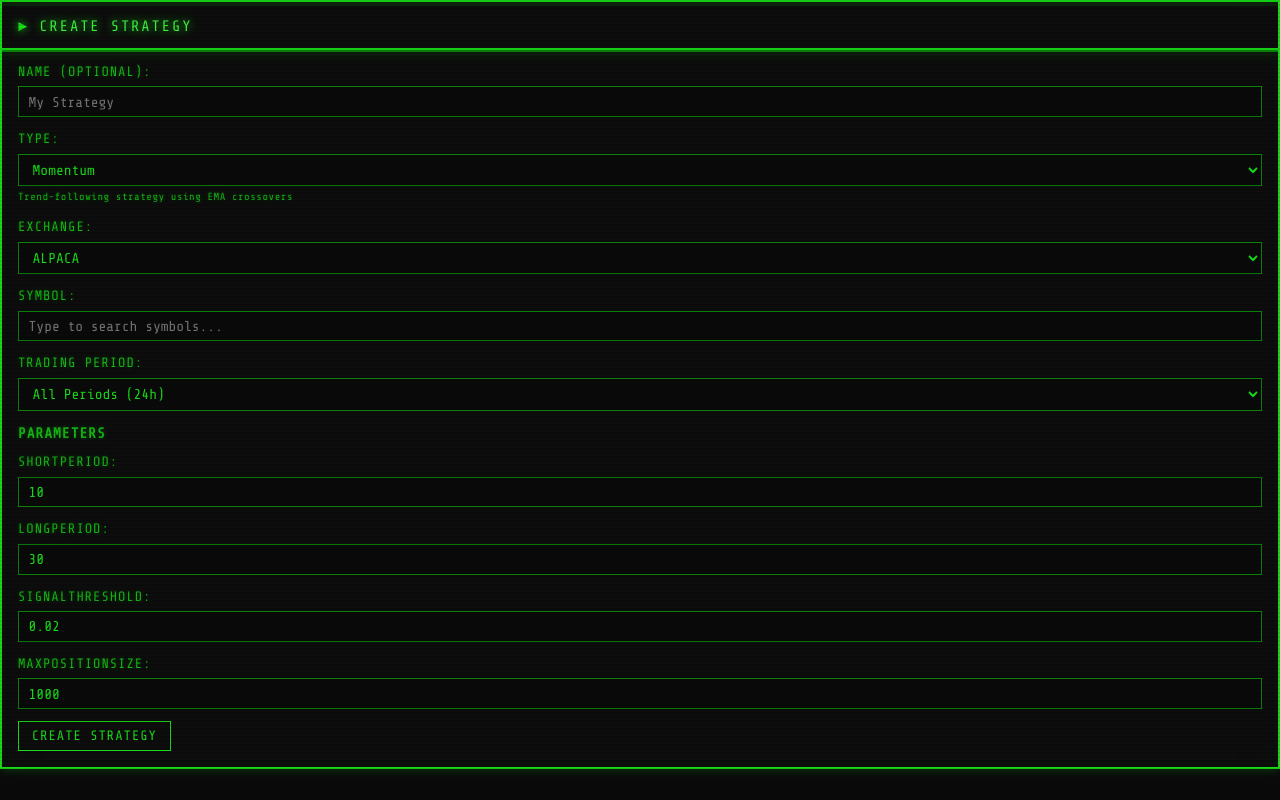
Test case: StrategyForm › loads different symbols when exchange changes
Change to BINANCE using the exchange dropdown
Select "BINANCE" in the dropdown showing "ALPACA" below "Exchange:": (640, 258) [18,242,1262,274]
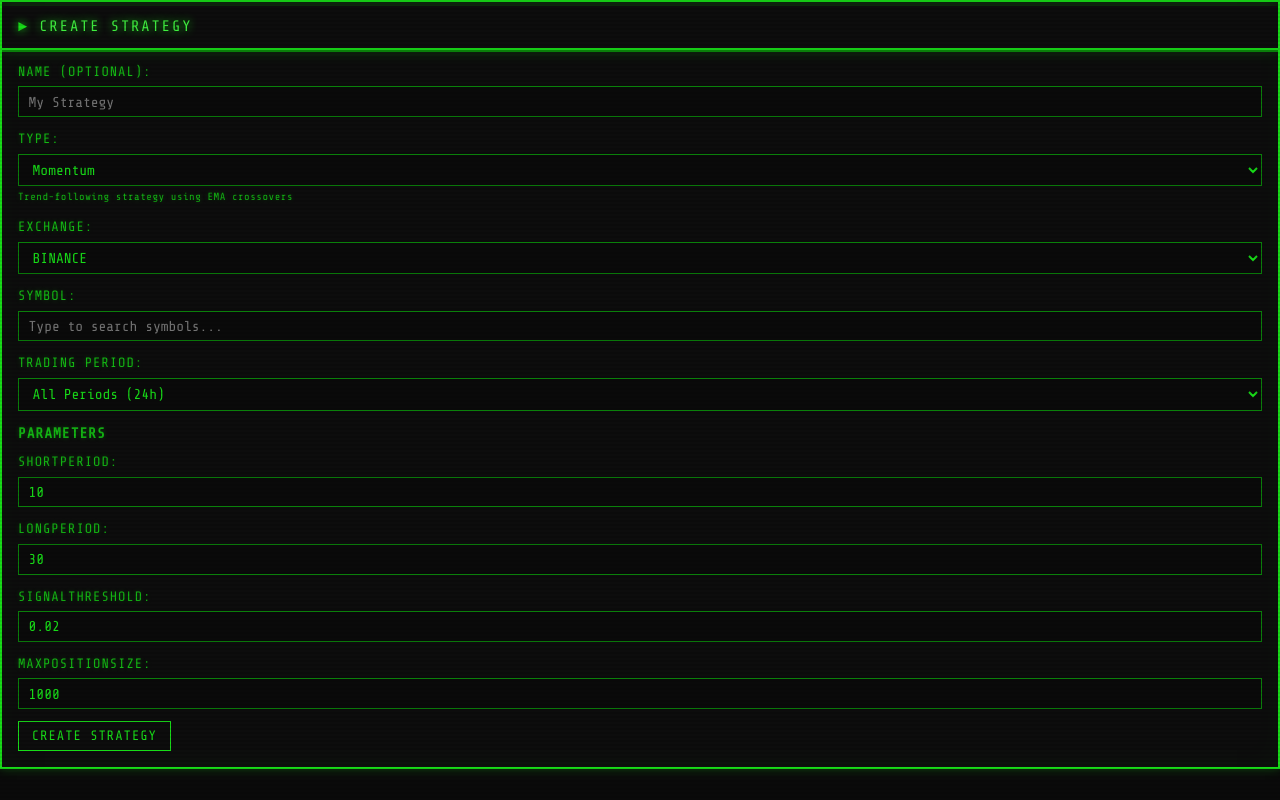
Click on symbol input to show dropdown
Click the field with placeholder "Type to search symbols...": (640, 326) [18,311,1262,342]
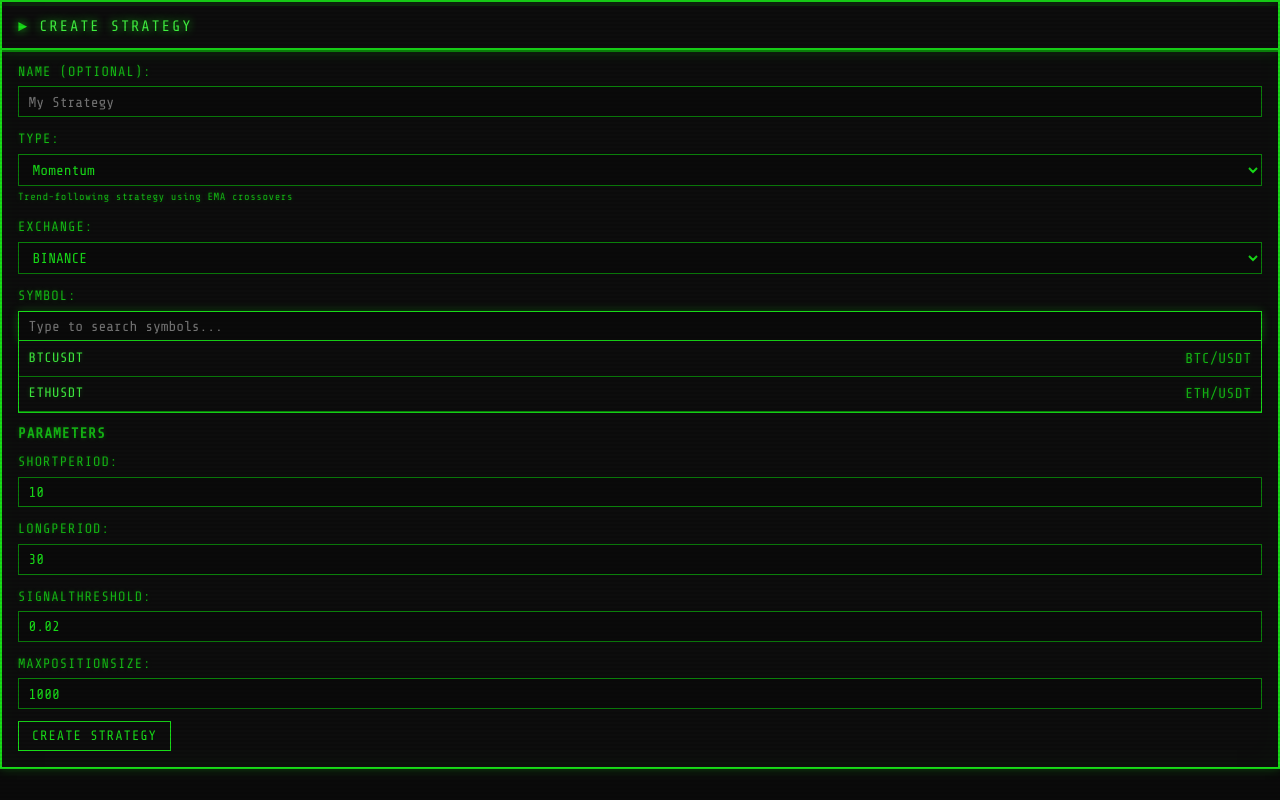
expect the text "BTCUSDT" is shown: met, box [29,348,84,370]
expect the text "BTC/USDT" is shown: met, box [1185,348,1251,370]
